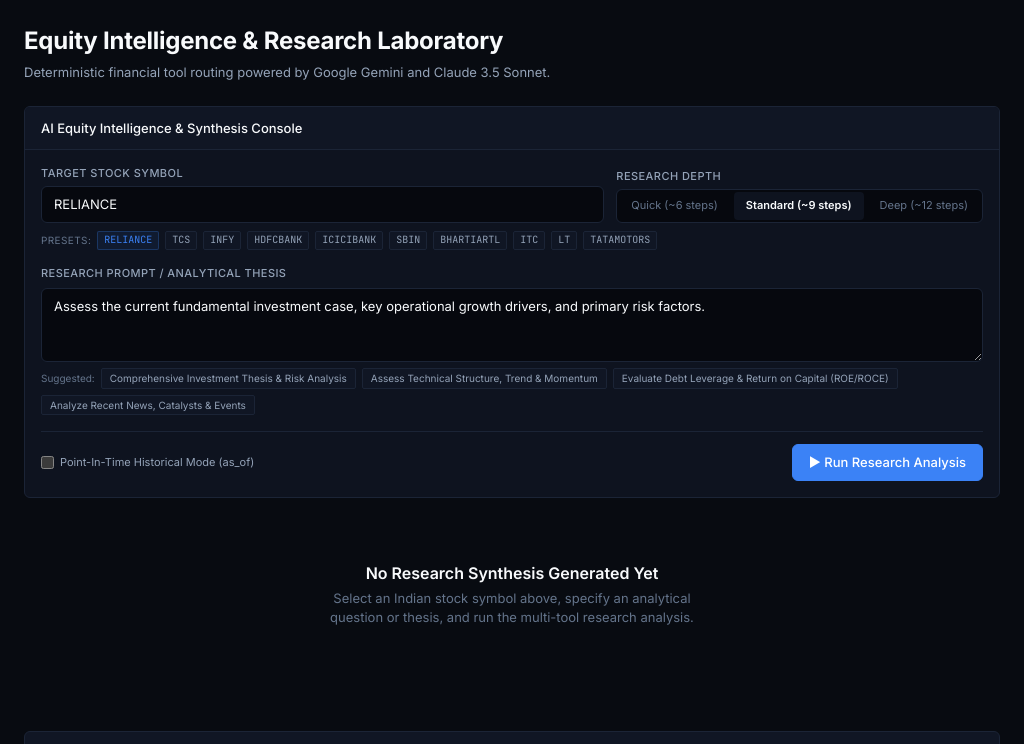
Test: ResearchPage (FE-8) › handles research execution errors gracefully
What coordinates should you click on to do the following:
click the button with test id "run-research-button"
I would click on:
 (887, 463)
Its box is left=792, top=444, right=983, bottom=481.
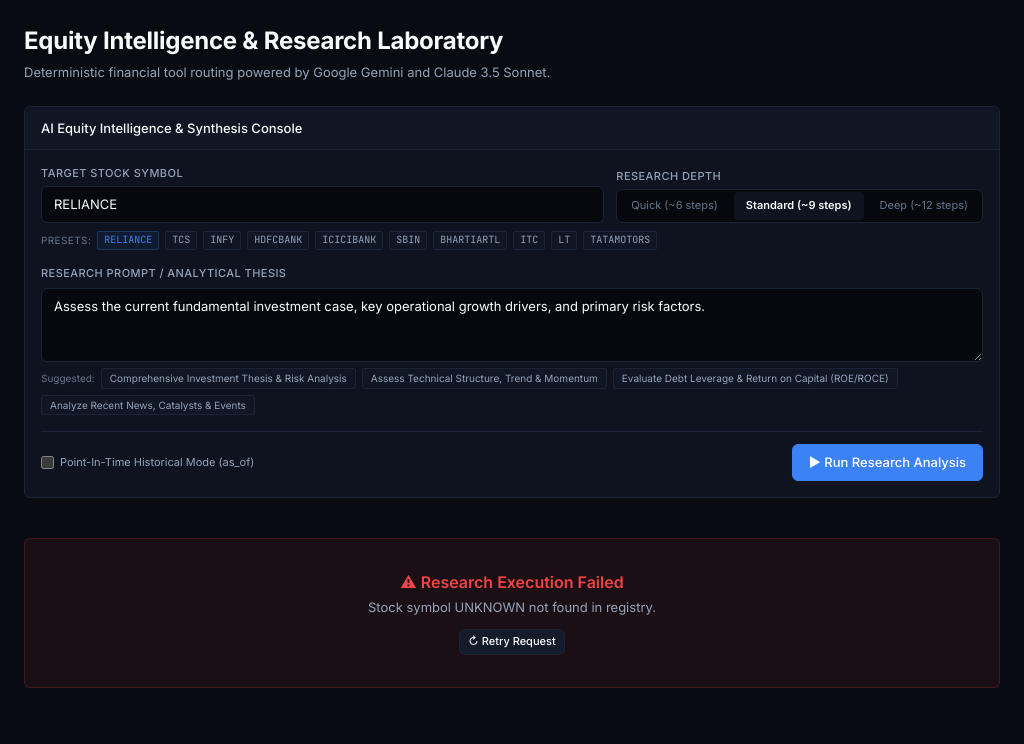
expect the text "⚠ Research Execution Failed" is shown: met, box left=400, top=571, right=624, bottom=594
expect the text "Stock symbol UNKNOWN not found in registry." is shown: met, box left=368, top=598, right=656, bottom=617
